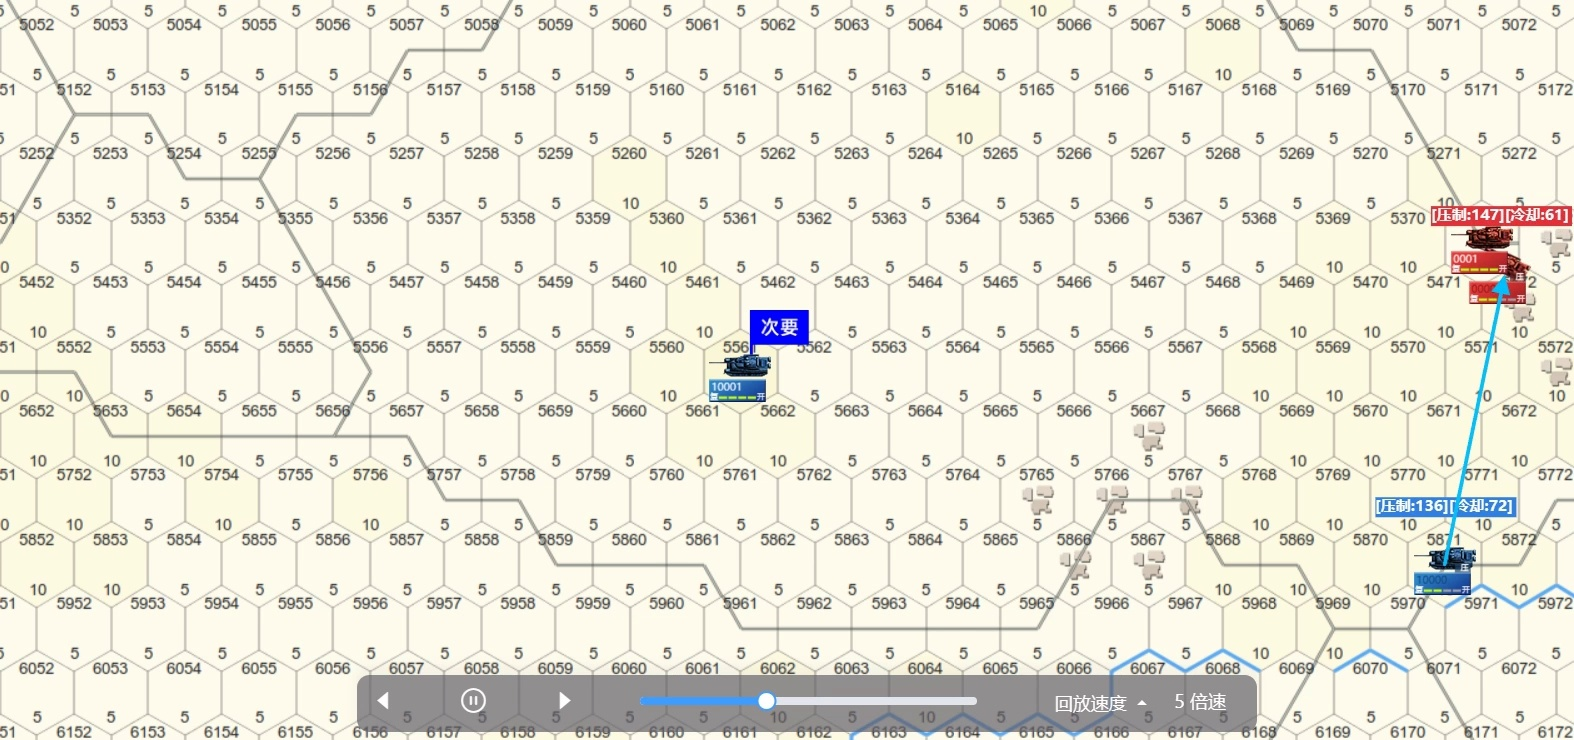blue_tank: (1409, 551, 1480, 594), (713, 358, 772, 408)
red_tank: (1453, 215, 1518, 262), (1476, 262, 1527, 306)
